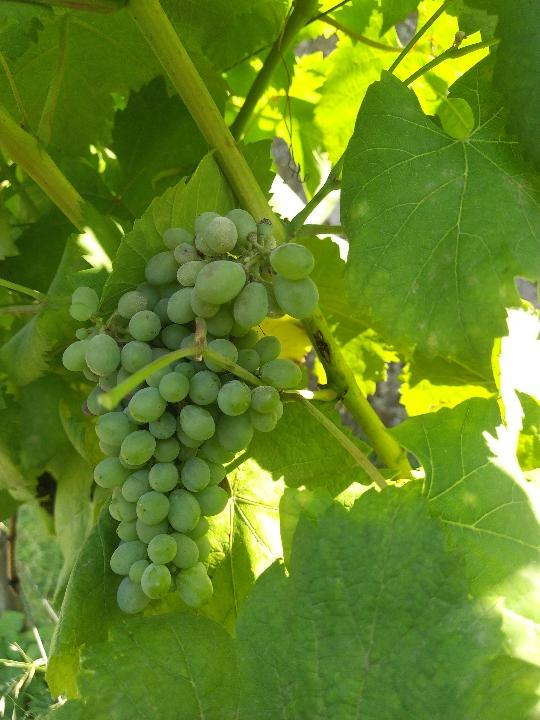grape: (61, 211, 321, 616)
